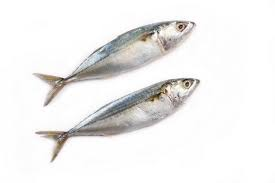Ikan Selar: (38, 76, 218, 161), (26, 6, 206, 82)
